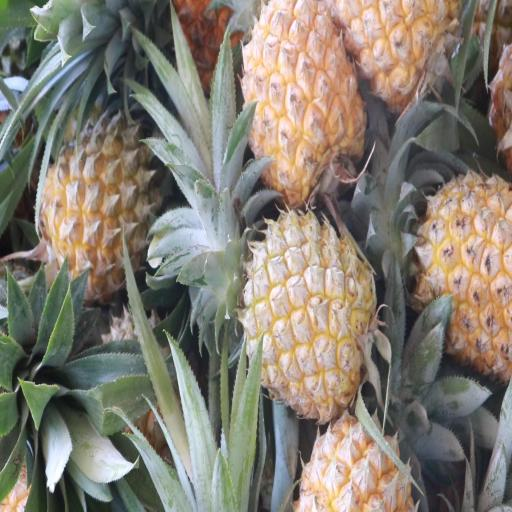------------------------------: (38, 122, 163, 301)
Pineapple - v8 v1: (244, 205, 376, 420), (239, 3, 367, 200), (411, 160, 512, 374), (301, 406, 438, 512)
